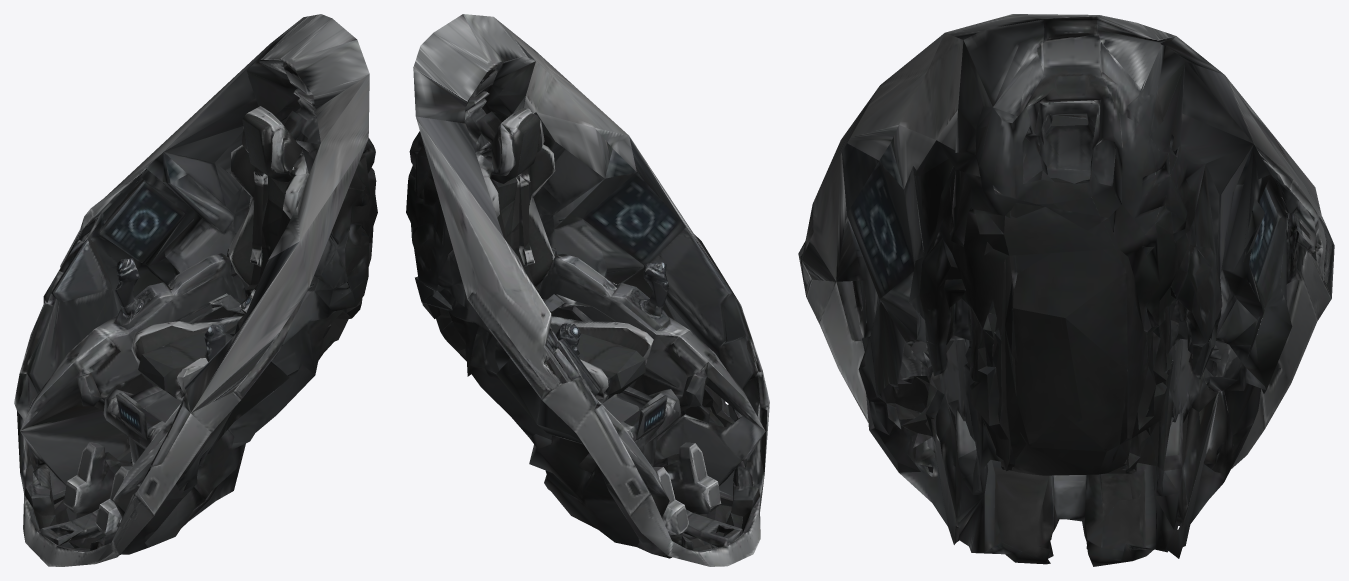
File: cockpit4_lab.glb
3 renders of one model, left to right at view 1: azimuth 30°, elevation 25°; view 2: azimuth 150°, elevation 25°; view 3: azimuth 270°, elevation 25°, orthographic. The views are drawn at different scales.
Parts seen in each view (by area): view 1: cockpit4_game_cockpit; view 2: cockpit4_game_cockpit; view 3: cockpit4_game_cockpit.
Boxes of the visible parts, x1,y1,x2,y2 form: cockpit4_game_cockpit: (14,14,377,566); cockpit4_game_cockpit: (406,14,769,566); cockpit4_game_cockpit: (798,14,1334,566).
Size of the model in its own units: 1.19 by 1.67 by 1.11.
1 material, 1 textured.
